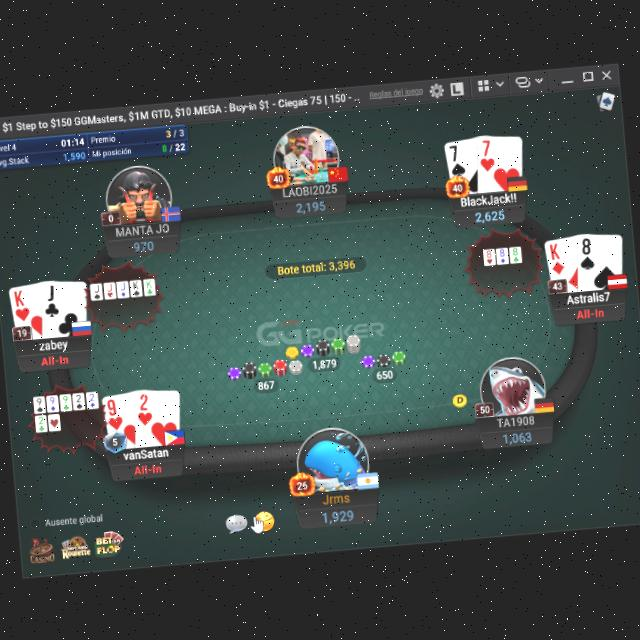2h: (134, 388, 154, 424)
7h: (476, 134, 496, 170)
7s: (448, 138, 468, 174)
8h: (104, 394, 124, 430)
8s: (574, 232, 598, 270)
9h: (104, 394, 124, 430)
Jc: (41, 280, 61, 316)
Kd: (547, 237, 567, 273)
Kh: (12, 285, 31, 319)
Tc: (41, 280, 61, 317)
all_in_symbol: (574, 301, 606, 318), (132, 458, 162, 474), (39, 350, 69, 364)
bet_text: (311, 356, 338, 368), (256, 376, 277, 389), (374, 366, 394, 379)
dealer: (451, 388, 468, 406)
pot_text: (273, 253, 357, 274)
stack_text: (318, 504, 356, 524), (474, 204, 506, 222), (500, 426, 532, 443), (294, 195, 326, 212), (131, 234, 154, 250)
